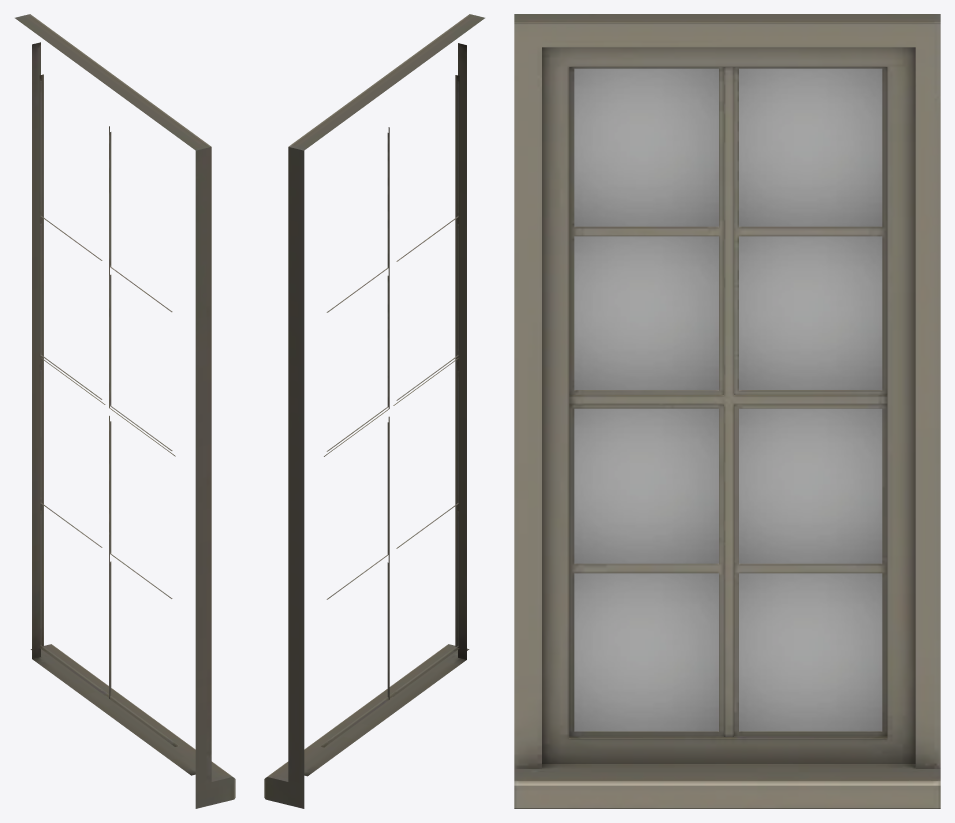
3 renders of one model, left to right at view 1: azimuth 30°, elevation 25°; view 2: azimuth 150°, elevation 25°; view 3: azimuth 270°, elevation 25°, orthographic. The views are drawn at different scales.
Visible parts, largest first — view 1: body0_model0_lod0_mesh0; view 2: body0_model0_lod0_mesh0; view 3: body0_model0_lod0_mesh0.
Part boxes in pixels (x1,y1,x2,y2): body0_model0_lod0_mesh0: [15, 14, 235, 808]; body0_model0_lod0_mesh0: [264, 14, 484, 808]; body0_model0_lod0_mesh0: [514, 14, 940, 808].
Bounding box in the file's own units: 8.13 × 128 × 64.19.
Materials: 1 (1 with a texture image).
